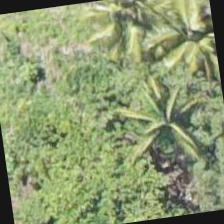Kelapa_Sawit: (115, 78, 217, 180), (152, 0, 222, 92), (74, 0, 172, 61)
